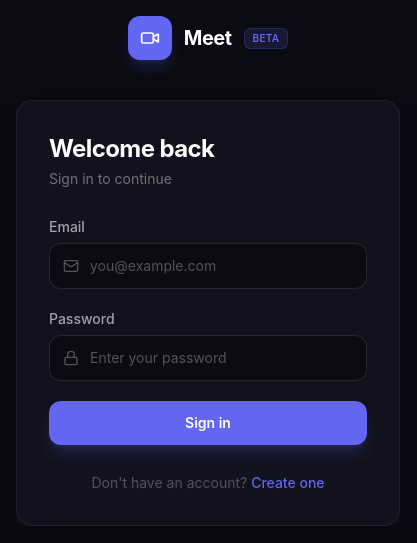
Test: Login › shows loading state during submission
Step 1. Type "a@b.com" into the field with placeholder "you@example.com" → (208, 266), box [49,243,367,289]
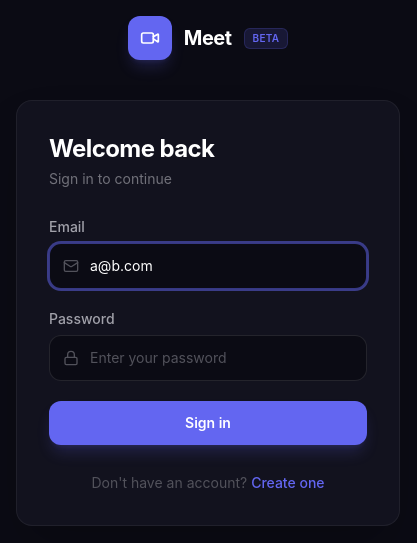
Step 2. Type "password123" into the password field with placeholder "Enter your password" → (208, 358), box [49,335,367,381]
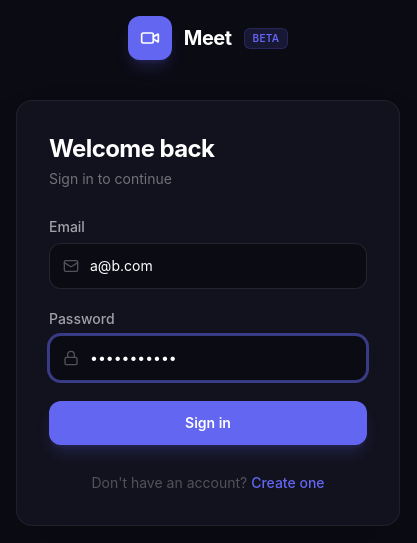
Step 3. Click the button "Sign in" → (208, 423), box [49,401,367,445]
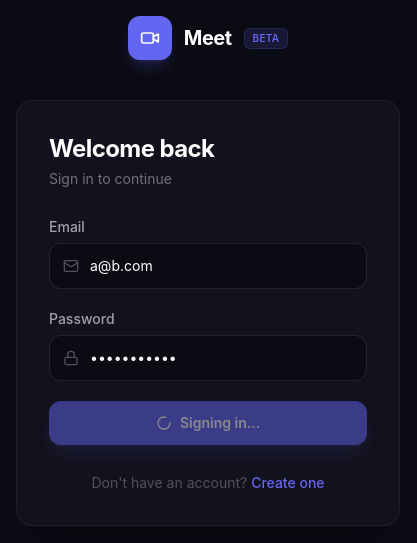
Check: the button "Signing in…" is disabled, box [49,401,367,445]
